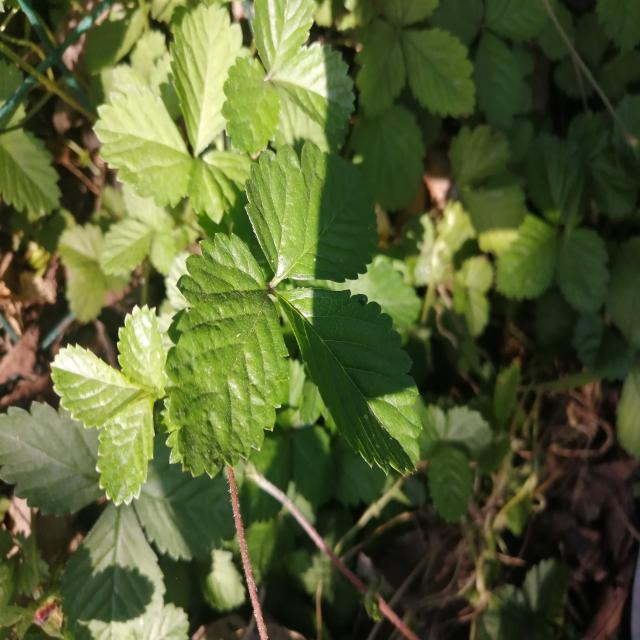Mock_strawberry: (146, 136, 442, 471)
